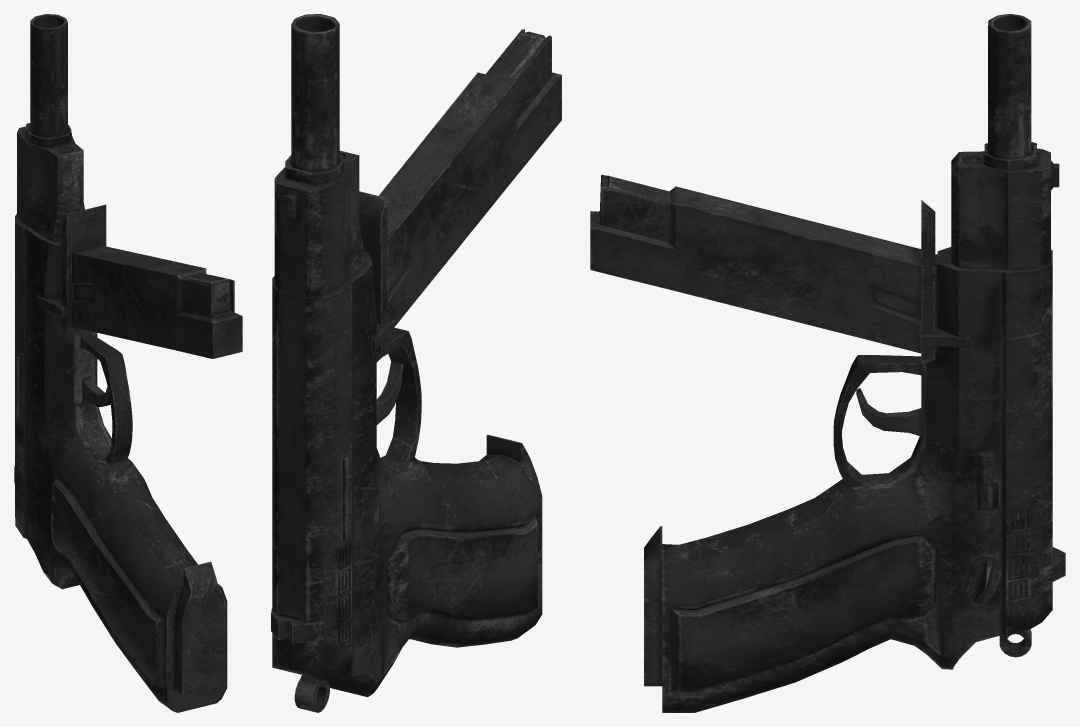
3 renders of one model, left to right at view 1: azimuth 30°, elevation 25°; view 2: azimuth 150°, elevation 25°; view 3: azimuth 270°, elevation 25°, orthographic. The views are drawn at different scales.
Parts seen in each view (by area): view 1: Box008_DefaultMaterial_0; view 2: Box008_DefaultMaterial_0; view 3: Box008_DefaultMaterial_0.
Part boxes in pixels (box(x1,y1,x2,y2)): Box008_DefaultMaterial_0: box(14, 14, 242, 712); Box008_DefaultMaterial_0: box(271, 14, 561, 712); Box008_DefaultMaterial_0: box(590, 14, 1065, 712).
Bounding box in the file's own units: 0.029 × 0.22 × 0.1396.
Materials: 1 (1 with a texture image).
